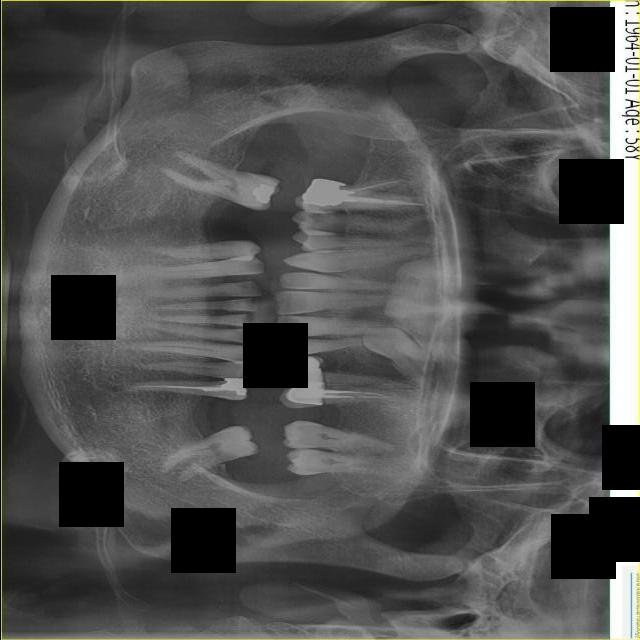71: (294, 387, 362, 397), (200, 386, 225, 392)
74: (348, 195, 424, 205), (348, 181, 403, 194), (135, 384, 222, 389), (361, 391, 387, 398)
NucleOSS Implant: (301, 176, 359, 211), (249, 181, 274, 205), (221, 379, 246, 396)
Sterngold Implant: (306, 213, 336, 222)
Zimmer Implant: (278, 382, 326, 409), (279, 367, 324, 389), (282, 354, 322, 372)
